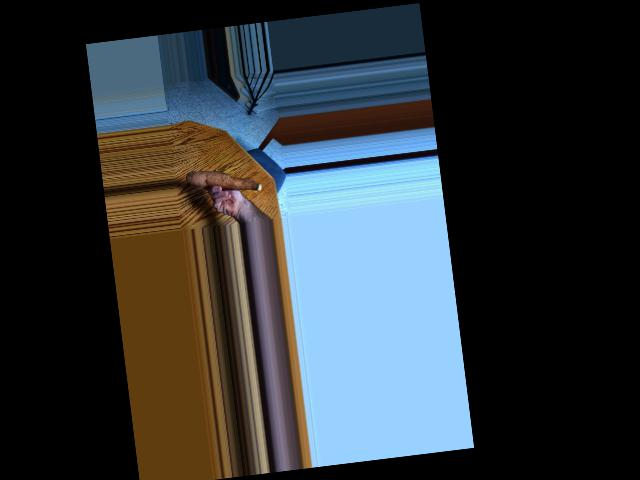sweet_potato: (187, 159, 261, 203)
